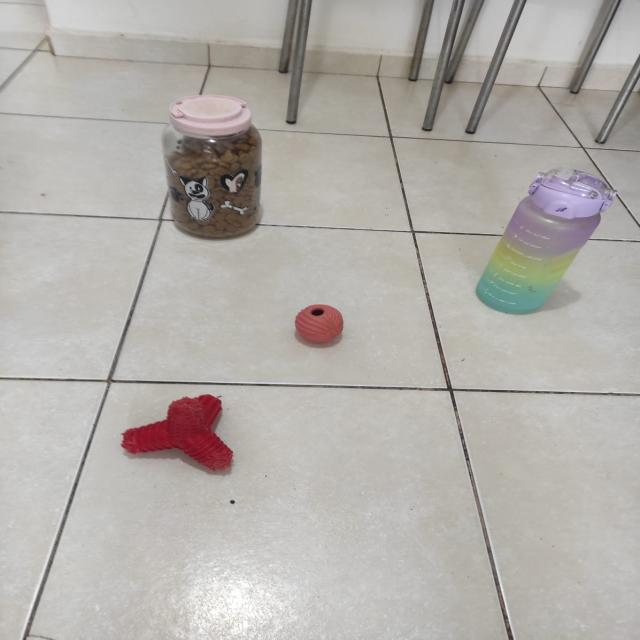bolinha: (276, 295, 352, 350)
brinquedo caro: (104, 380, 261, 479)
garrafinha de agua: (475, 165, 620, 326)
racao: (147, 90, 271, 243)
